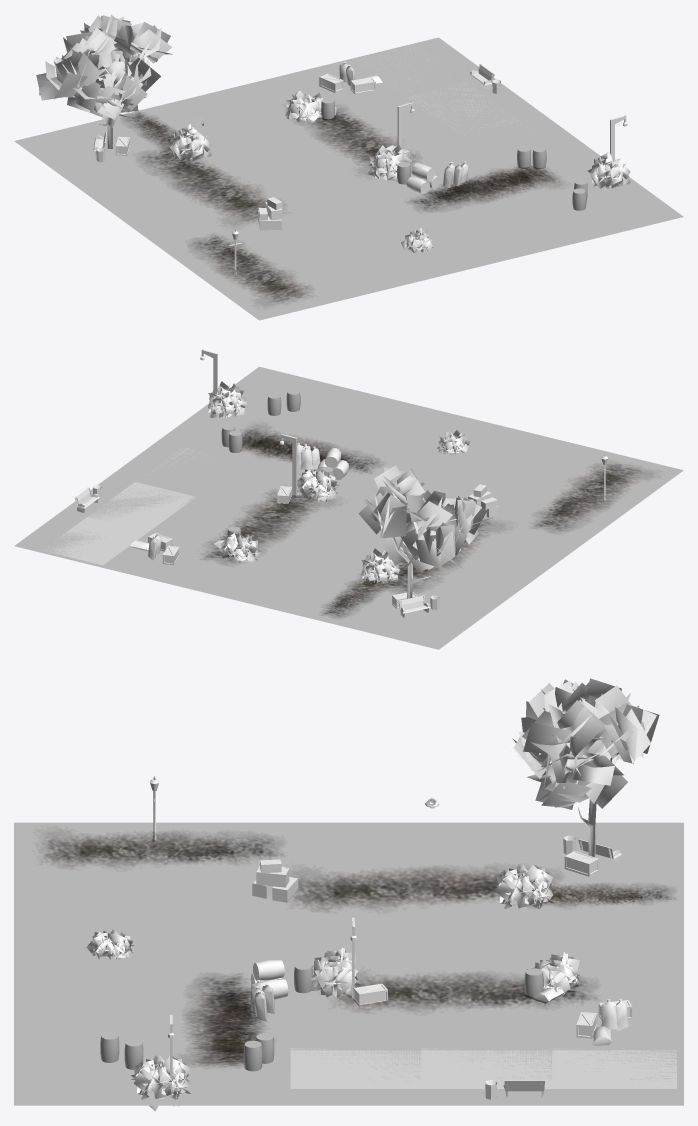
Rendered from propsonly_brew5-mid.gltf.
The picture shows the model from 3 angles, top to bottom: view 1: azimuth 30°, elevation 25°; view 2: azimuth 150°, elevation 25°; view 3: azimuth 270°, elevation 25°; orthographic projection. The views are drawn at different scales.
Parts seen in each view (by area): view 1: prop_tree.001, file_b2_ground1.089, file_b2_ground3.052, file_b1_ground.007, file_b2_ground1.096, file_b2_ground2.015, file_b2_ground1.086, file_b2_ground1.094, file_b2_ground3.048, file_b2_ground3.051, file_b2_ground3.046, file_b2_ground4.009 (+28 smaller); view 2: prop_tree.001, FeedbackBlocker.038, file_b2_ground1.087, file_b2_ground1.091, file_b2_ground1.096, file_b2_ground1.086, file_b2_ground1.084, file_b2_ground1.090, file_b2_ground1.083, file_b2_ground3.046, file_b2_ground3.051, file_b2_ground1.089 (+27 smaller); view 3: FeedbackBlocker.038, prop_tree.001, file_b2_ground1.089, file_b2_ground1.086, file_b2_ground1.084, file_b2_ground1.090, file_b2_ground1.092, file_b2_ground1.096, file_b2_ground1.094, file_b2_ground1.082, file_b2_ground1.087, file_b2_ground1.088 (+30 smaller).
Boxes of the visible parts, x1=… form: prop_tree.001: x1=36, y1=14, x2=172, y2=149; file_b2_ground1.089: x1=207, y1=259, x2=350, y2=320; file_b2_ground3.052: x1=347, y1=37, x2=478, y2=98; file_b1_ground.007: x1=242, y1=206, x2=385, y2=264; file_b2_ground1.096: x1=457, y1=200, x2=591, y2=259; file_b2_ground2.015: x1=396, y1=77, x2=538, y2=131; file_b2_ground1.086: x1=110, y1=195, x2=254, y2=249; file_b2_ground1.094: x1=62, y1=159, x2=205, y2=211; file_b2_ground3.048: x1=547, y1=178, x2=683, y2=239; file_b2_ground3.051: x1=181, y1=78, x2=306, y2=138; file_b2_ground3.046: x1=242, y1=119, x2=360, y2=173; file_b2_ground4.009: x1=14, y1=119, x2=157, y2=176; prop_tree.001: x1=358, y1=465, x2=492, y2=598; FeedbackBlocker.038: x1=44, y1=447, x2=211, y2=565; file_b2_ground1.087: x1=496, y1=483, x2=635, y2=543; file_b2_ground1.091: x1=110, y1=437, x2=253, y2=497; file_b2_ground1.096: x1=291, y1=387, x2=433, y2=447; file_b2_ground1.086: x1=454, y1=518, x2=582, y2=579; file_b2_ground1.084: x1=465, y1=428, x2=599, y2=487; file_b2_ground1.090: x1=272, y1=570, x2=405, y2=629; file_b2_ground1.083: x1=378, y1=407, x2=516, y2=468; file_b2_ground3.046: x1=250, y1=513, x2=367, y2=573; file_b2_ground3.051: x1=181, y1=558, x2=318, y2=608; file_b2_ground1.089: x1=553, y1=448, x2=683, y2=505; FeedbackBlocker.038: x1=290, y1=1048, x2=676, y2=1088; prop_tree.001: x1=512, y1=678, x2=659, y2=862; file_b2_ground1.089: x1=14, y1=822, x2=158, y2=883; file_b2_ground1.086: x1=276, y1=822, x2=421, y2=883; file_b2_ground1.084: x1=14, y1=878, x2=158, y2=938; file_b2_ground1.090: x1=539, y1=878, x2=683, y2=938; file_b2_ground1.092: x1=408, y1=989, x2=552, y2=1050; file_b2_ground1.096: x1=14, y1=989, x2=158, y2=1050; file_b2_ground1.094: x1=408, y1=822, x2=552, y2=883; file_b2_ground1.082: x1=145, y1=933, x2=289, y2=994; file_b2_ground1.087: x1=145, y1=822, x2=289, y2=883; file_b2_ground1.088: x1=276, y1=989, x2=421, y2=1050.
Size of what is drawn, in the model's own units: 5.18 by 1.63 by 5.1.
